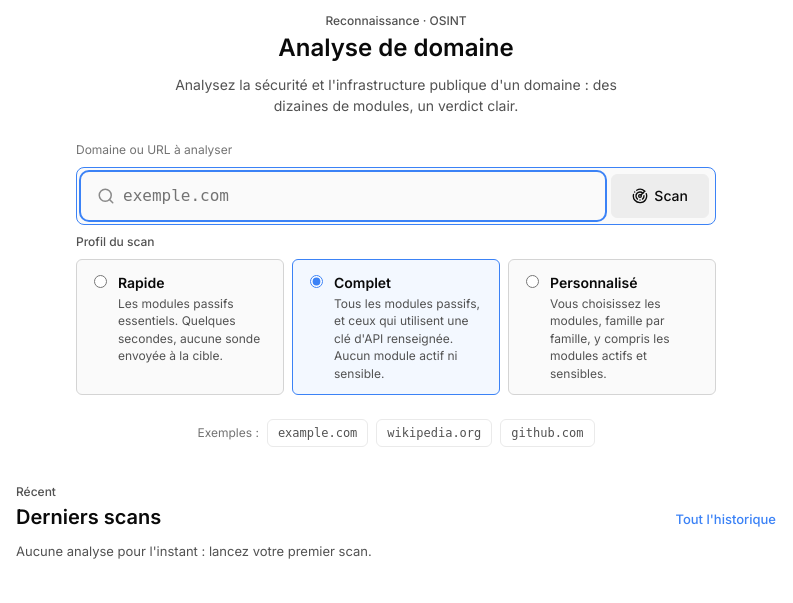
Test case: Nouveau scan › affiche le refus du serveur tel qu'il est rendu
The width and height of the screenshot is (793, 603).
Type "192.168.1.1" into the field labelled "Domaine ou URL à analyser" at (343, 196), box [83,174,603,218]
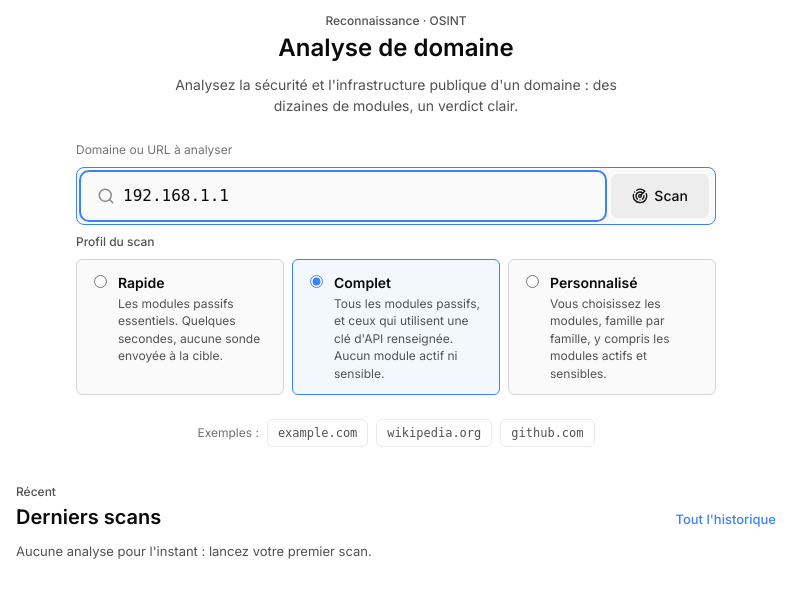
Click the button "Scan" at (660, 196), box [611,174,709,218]
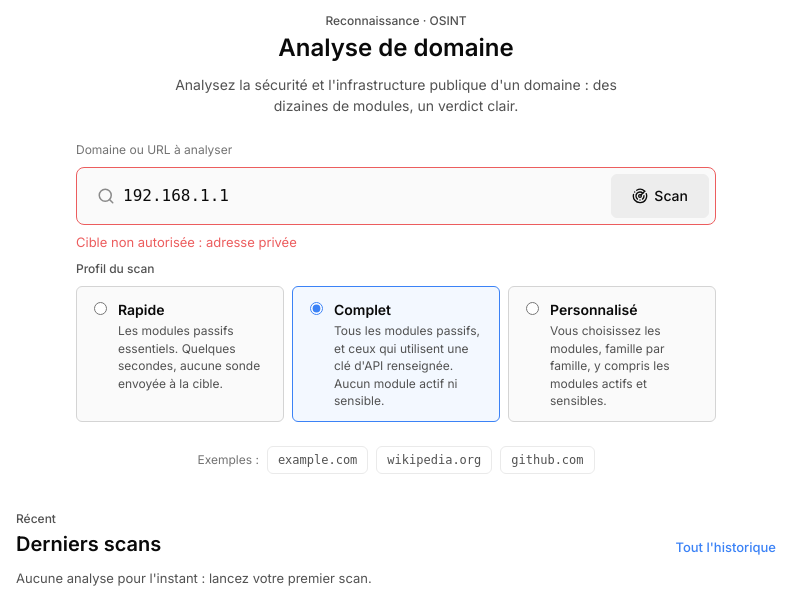
Expected: the message reads "Cible non autorisée : adresse privée", [76,234,297,250]
